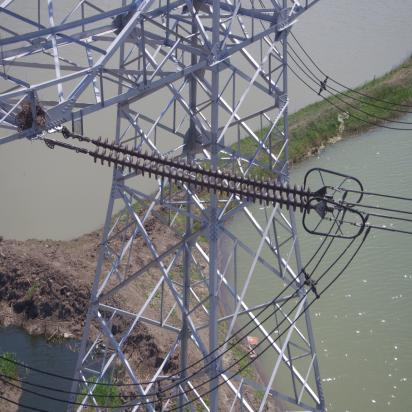insulator: (81, 132, 320, 217)
